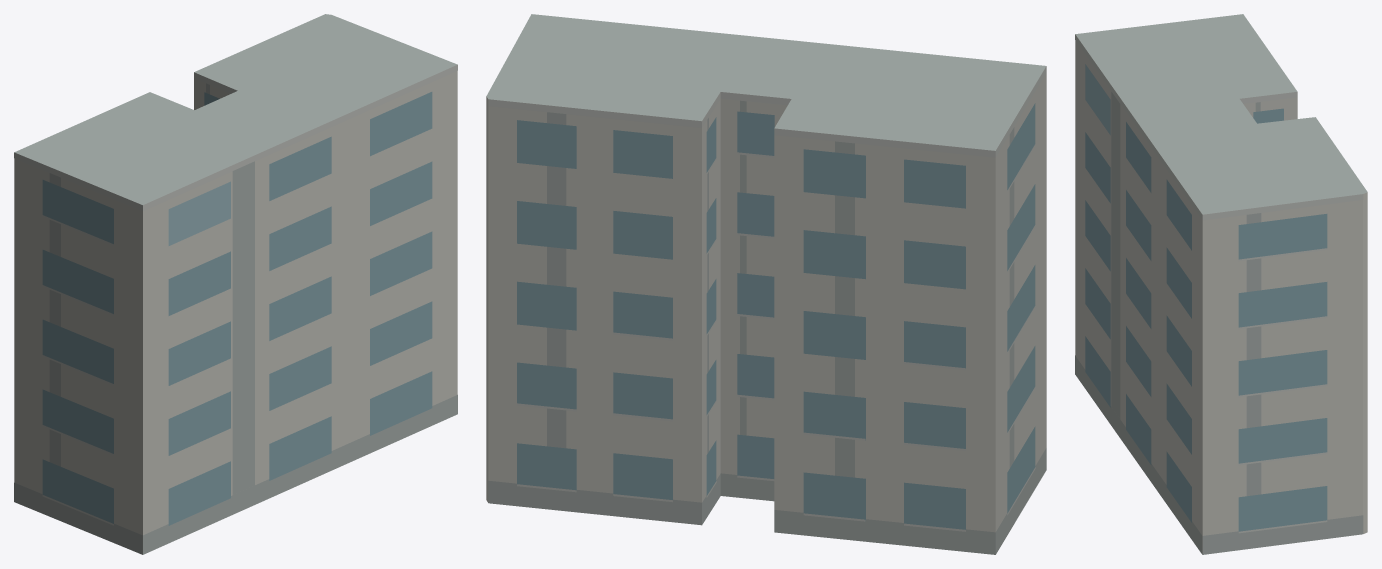
Rendered from survey-upis-32950213.glb.
The picture shows the model from 3 angles, left to right: view 1: azimuth 30°, elevation 25°; view 2: azimuth 150°, elevation 25°; view 3: azimuth 270°, elevation 25°; orthographic projection. The views are drawn at different scales.
Parts seen in each view (by area): view 1: survey-upis-32950213.tmp; view 2: survey-upis-32950213.tmp; view 3: survey-upis-32950213.tmp.
Boxes of the visible parts, x1,y1,x2,y2 form: survey-upis-32950213.tmp: [14, 14, 457, 554]; survey-upis-32950213.tmp: [486, 14, 1046, 554]; survey-upis-32950213.tmp: [1075, 14, 1367, 554].
Size of the model in its own units: 18.1 by 14.3 by 11.16.
